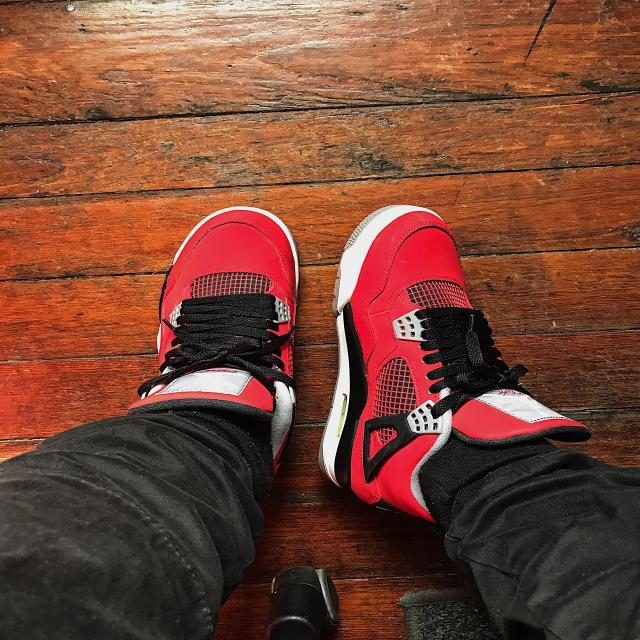shoe: (308, 196, 592, 523), (135, 202, 300, 478)
